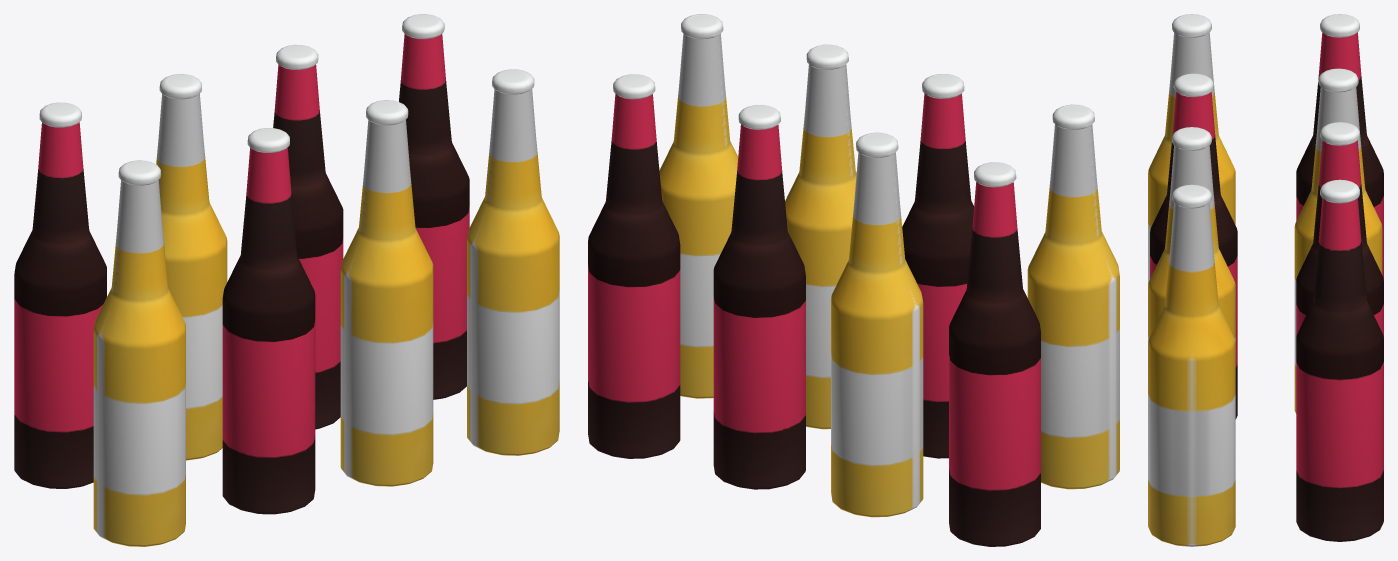
The model's file is Bottles01_9.FBX.
The picture shows the model from 3 angles, left to right: view 1: azimuth 30°, elevation 25°; view 2: azimuth 150°, elevation 25°; view 3: azimuth 270°, elevation 25°; orthographic projection. The views are drawn at different scales.
Parts seen in each view (by area): view 1: Bottles01_9; view 2: Bottles01_9; view 3: Bottles01_9.
Part boxes in pixels (x1=…): Bottles01_9: x1=14, y1=14, x2=559, y2=546; Bottles01_9: x1=588, y1=14, x2=1119, y2=546; Bottles01_9: x1=1148, y1=14, x2=1383, y2=546.
Bounding box in the file's own units: 38.52 × 29.45 × 18.47.
